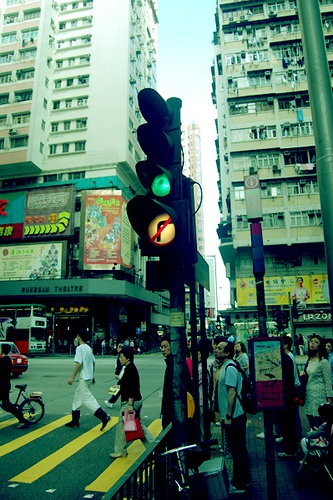non-vehicle: (142, 438, 218, 499), (15, 388, 46, 420)
